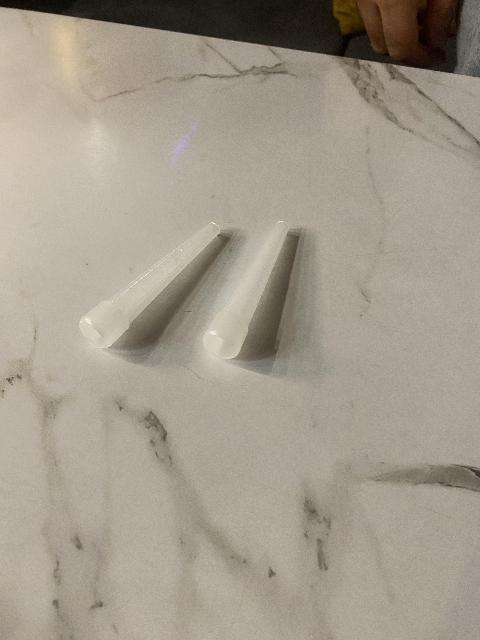Plastik: (75, 216, 232, 351), (197, 222, 305, 359)
